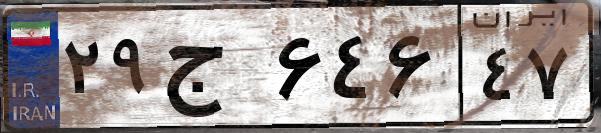2: (57, 26, 110, 100)
4: (330, 28, 385, 110), (475, 38, 525, 113)
6: (270, 28, 330, 110), (385, 28, 445, 110)
7: (525, 38, 570, 115)
9: (110, 28, 158, 98)
ج: (158, 20, 270, 120)
